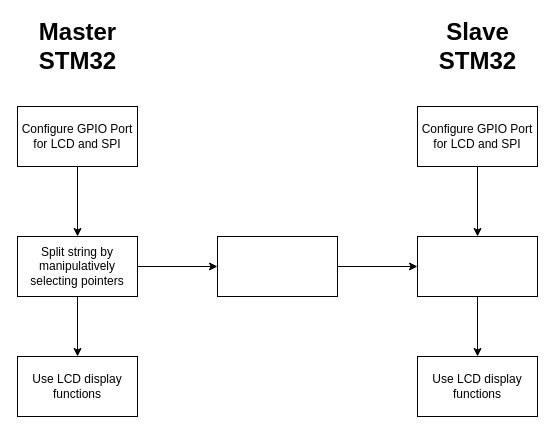
The diagram is 555 pixels wide and 434 high, and some of its shapes have lost their labels. Each missing label, with the box of its shape:
Interpret/get data: (416, 236, 538, 296)
Send over SPI: (216, 236, 338, 296)
